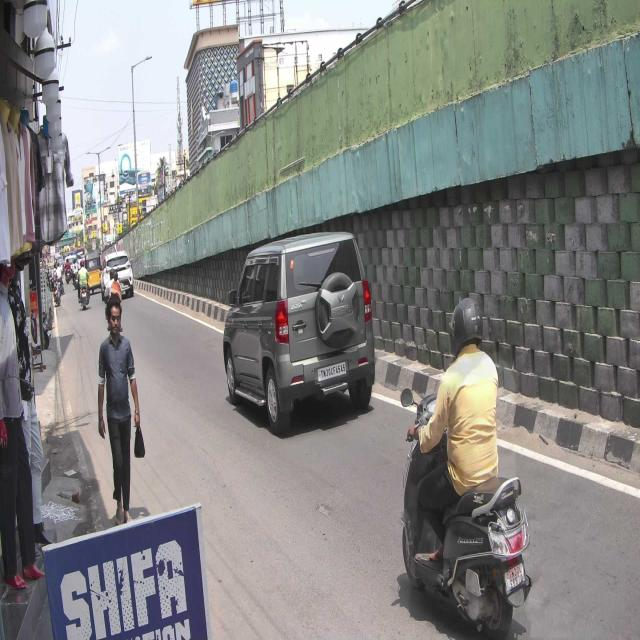single_rider: (400, 295, 536, 640)
